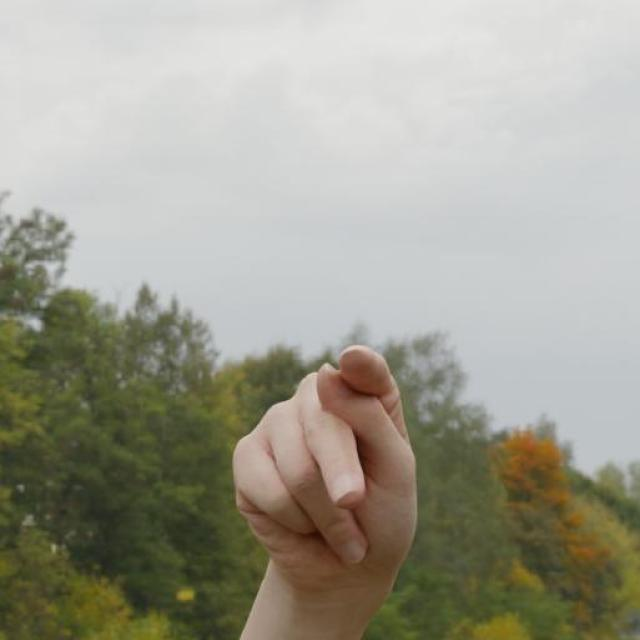P: (230, 341, 420, 600)
